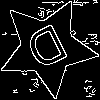D: (22, 22, 75, 80)
